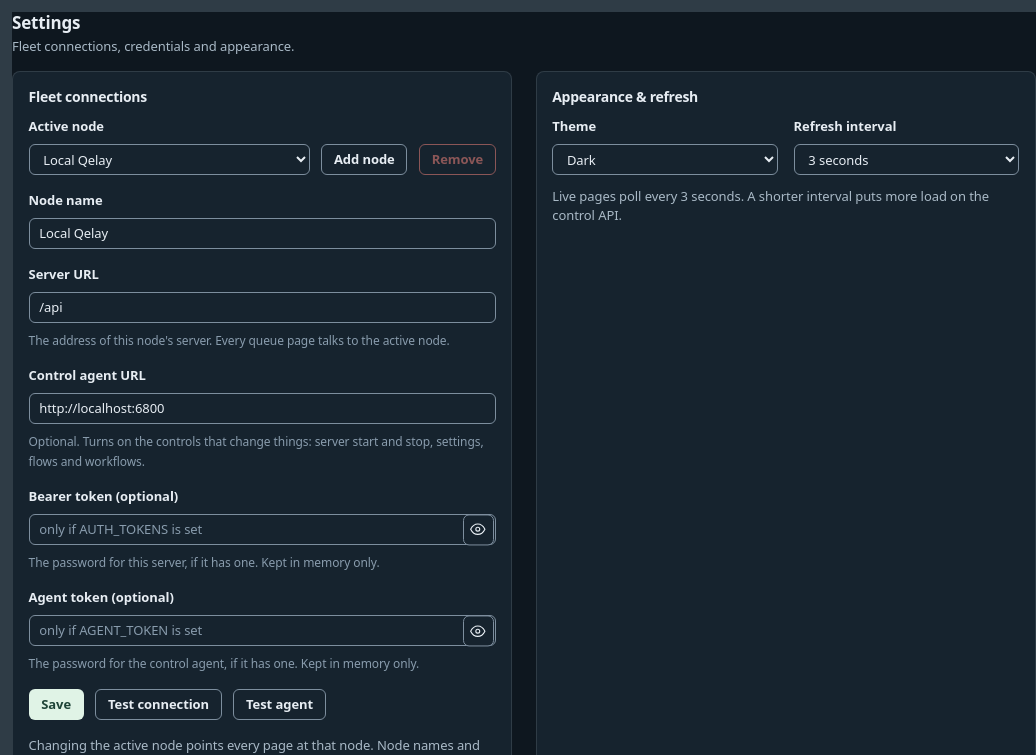
Scenario: Settings connection-test lifecycle › editing and Save each abort and invalidate the result for the old draft
expect the field named "server-url" is shown: met, box [29,292,496,323]
Click the button "Test connection".
click(159, 705)  # box [95,689,222,720]
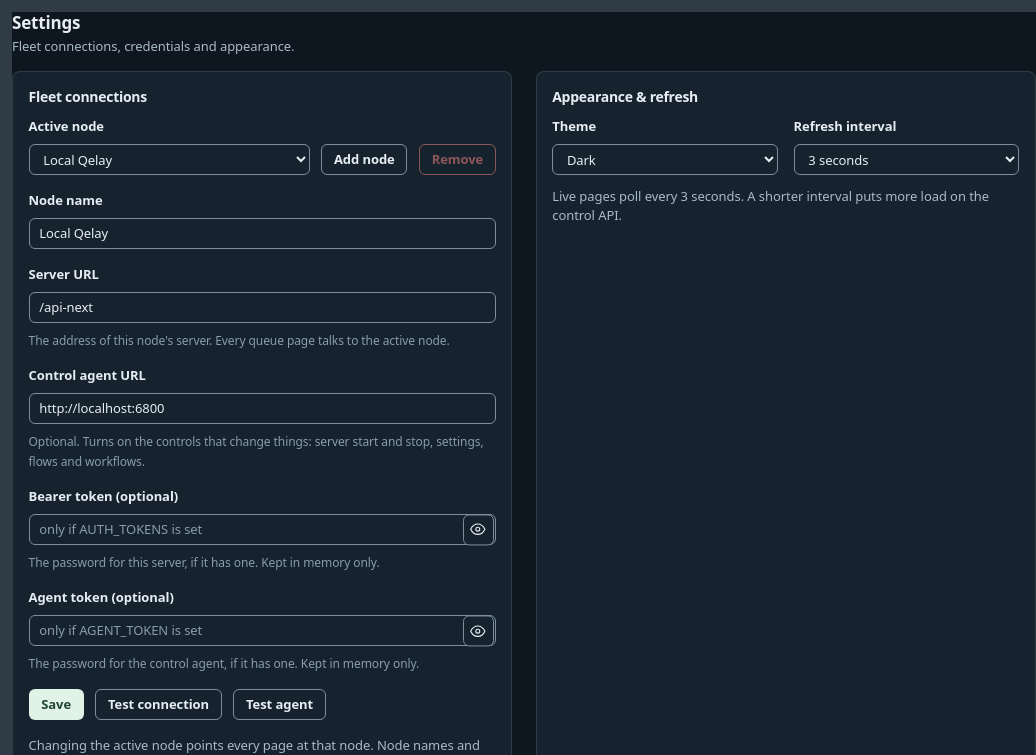
Click the button "Test connection".
click(159, 705)  # box [95,689,222,720]
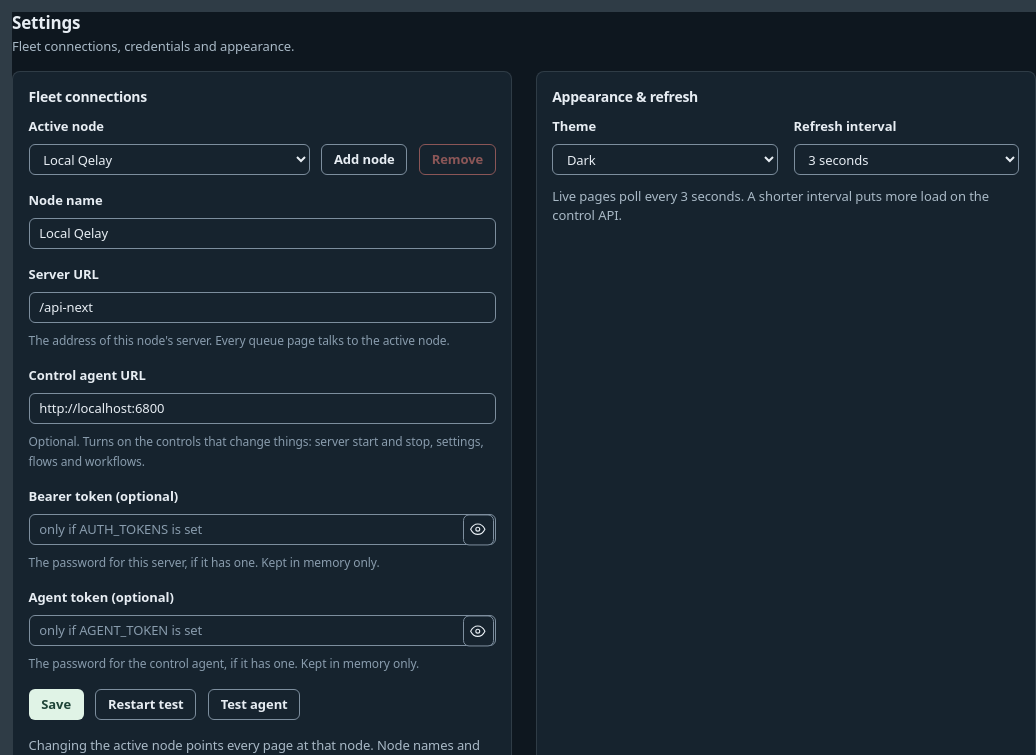
Click the button "Save".
click(56, 705)  # box [29,689,84,720]
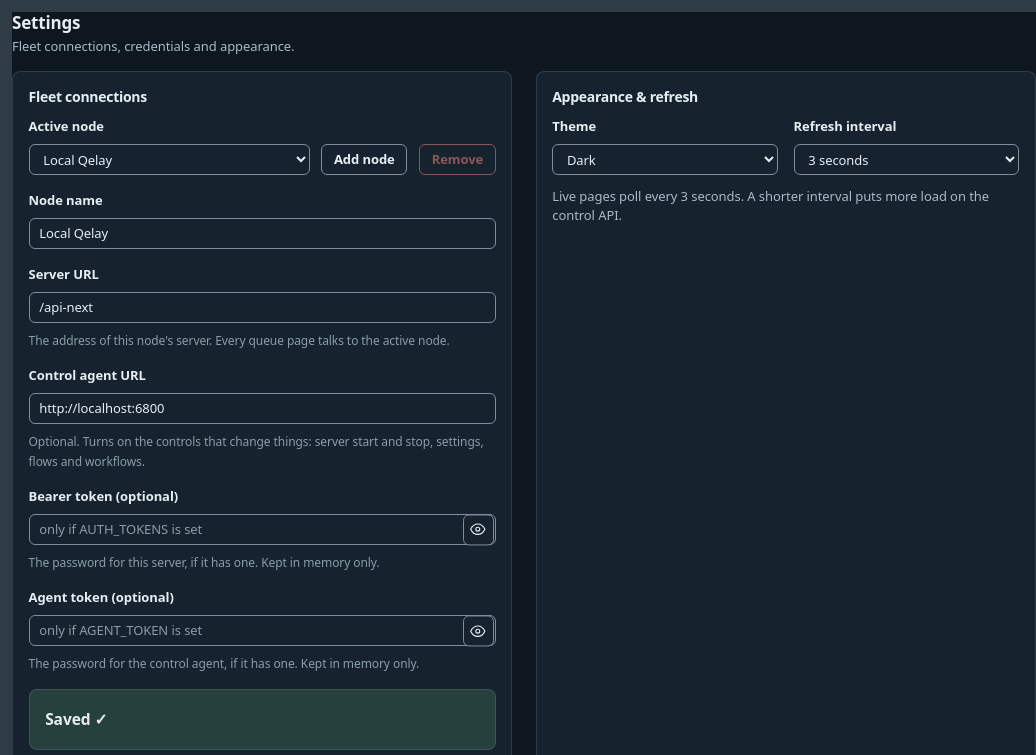
expect the text "Saved" is shown: met, box [45,708,108,730]
